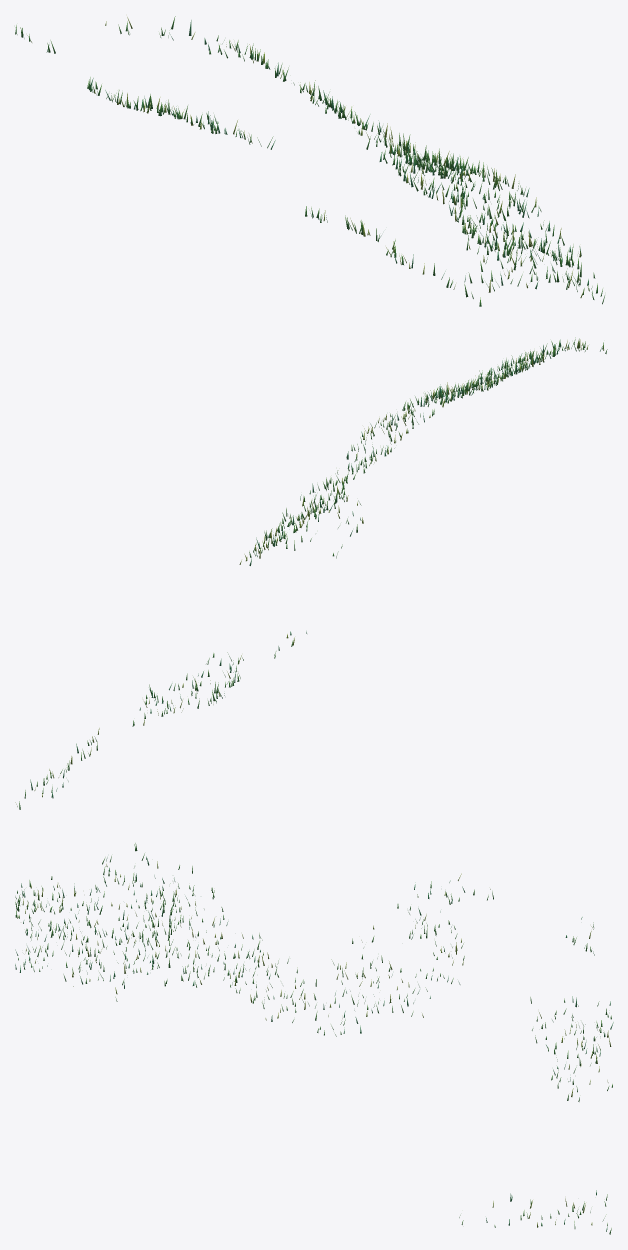
3 views of the same model, one above another, from view 1: azimuth 30°, elevation 25°; view 2: azimuth 150°, elevation 25°; view 3: azimuth 270°, elevation 25° (orthographic). The views are drawn at different scales.
Parts seen in each view (by area): view 1: gc_58; view 2: gc_58; view 3: gc_58.
Boxes of the visible parts, bbox=[...] form: gc_58: bbox=[15, 16, 604, 306]; gc_58: bbox=[15, 337, 607, 809]; gc_58: bbox=[15, 843, 613, 1234].
Bounding box in the file's own units: 8.44 × 9.58 × 18.1.
Materials: 1 (1 with a texture image).
